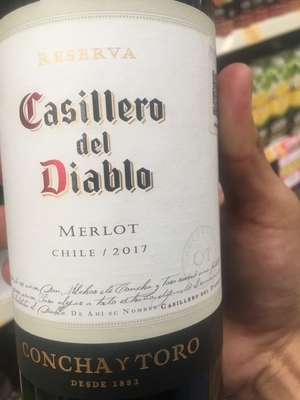casillero del diablo merlot: (2, 4, 231, 399)
